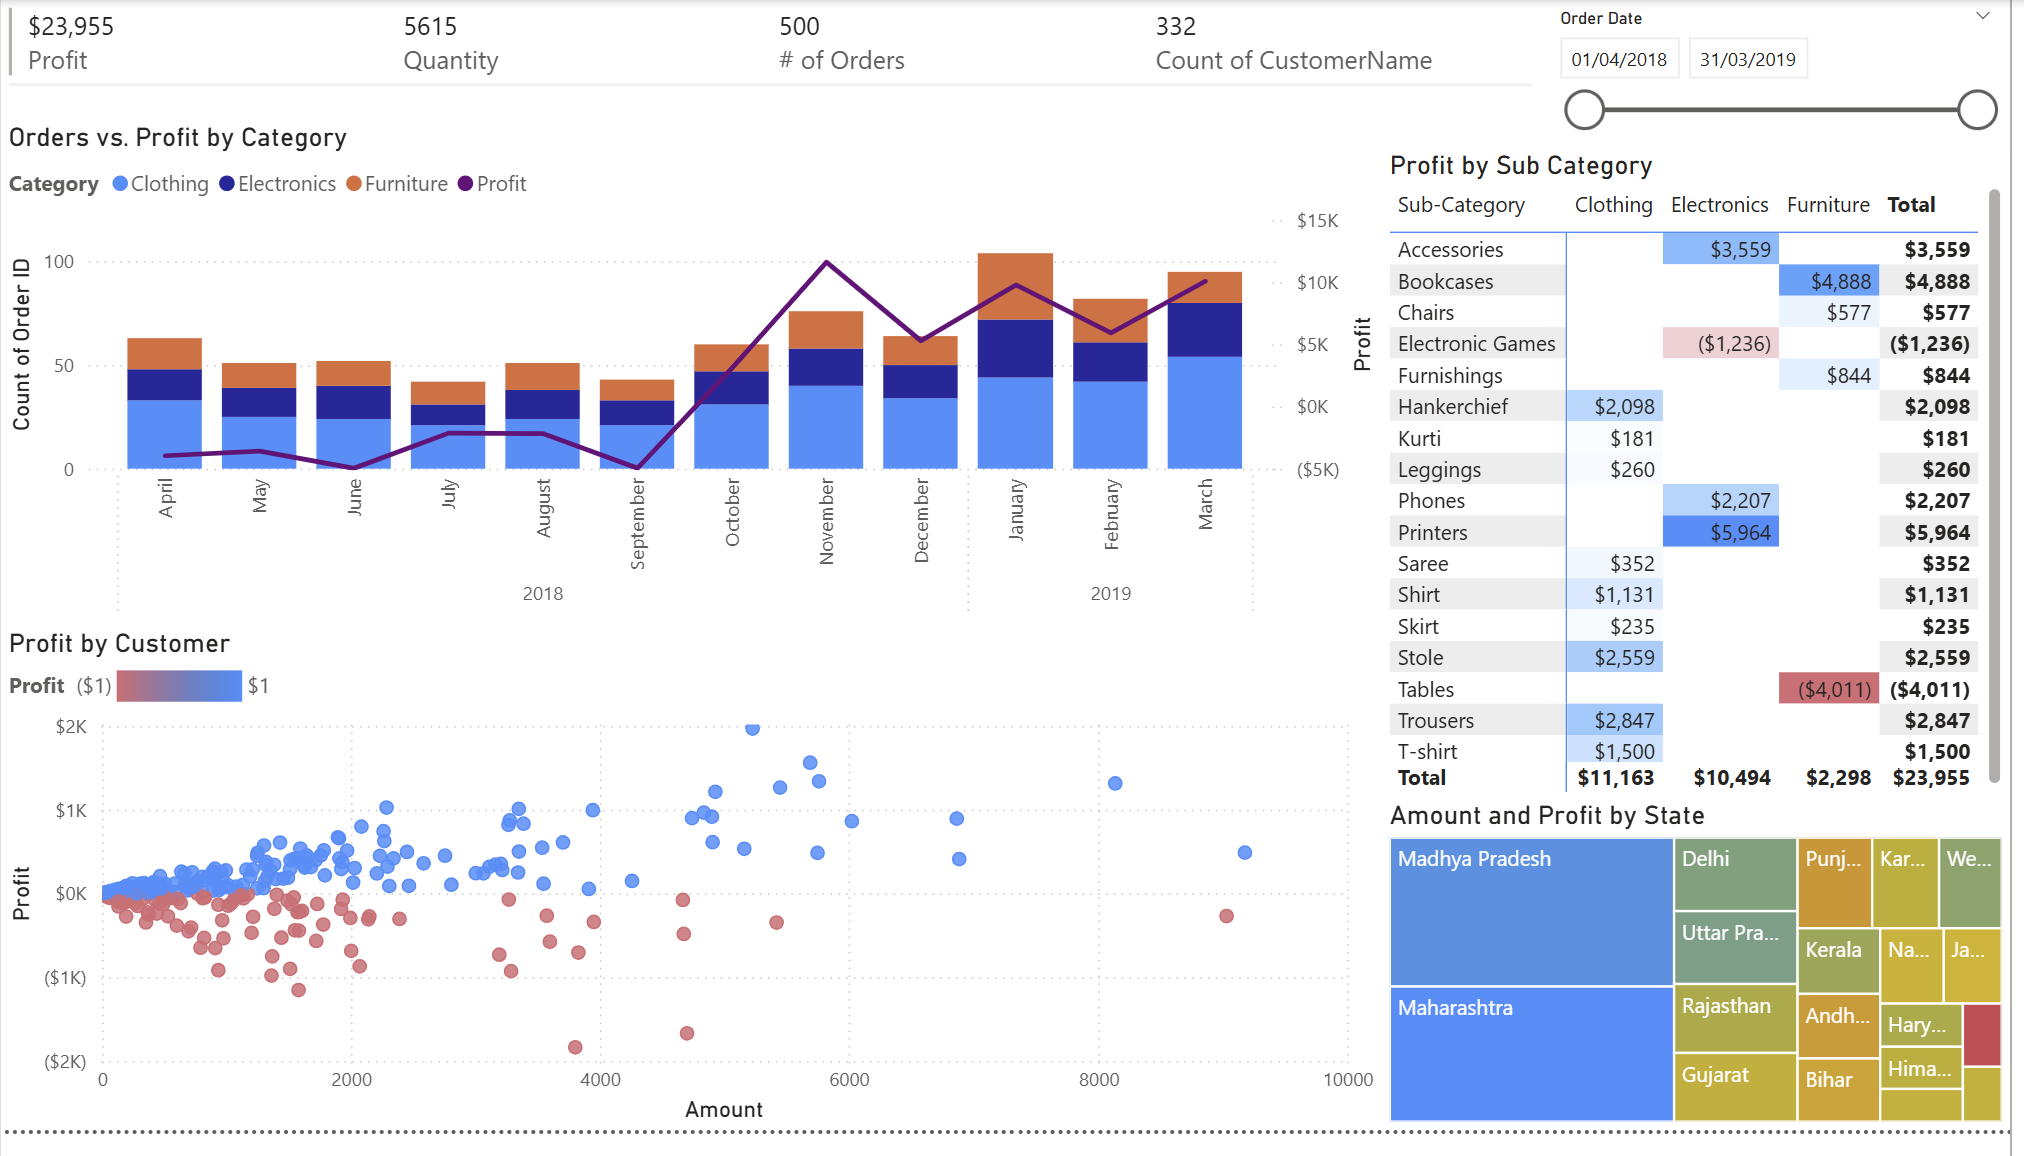

The page's visual inventory and layout, read from the dashboard file:
{"tool":"powerbi","page":{"name":"Profit Analysis","canvas":[1280,720],"ordinal":0},"visuals":[{"type":"multiRowCard","fields":{"Values":["Sum(Order Details.Profit)","Sum(Order Details.Quantity)","List of Orders.Order ID","List of Orders.CustomerName"]},"box":[0,0,980,77.1],"z":0},{"type":"lineStackedColumnComboChart","title":"Orders vs. Profit by Category","fields":{"Category":["List of Orders.Order Date.Variation.Date Hierarchy.Year","List of Orders.Order Date.Variation.Date Hierarchy.Month"],"Series":["Order Details.Category"],"Y2":["Sum(Order Details.Profit)"],"Y":["CountNonNull(List of Orders.Order ID)"]},"box":[0,77.3,879.9,322.8],"z":1000},{"type":"pivotTable","title":"Profit by Sub Category","fields":{"Values":["Sum(Order Details.Profit)"],"Rows":["Order Details.Sub-Category"],"Columns":["Order Details.Category"]},"box":[880,95.7,400,414.3],"z":2000},{"type":"scatterChart","title":"Profit by Customer","fields":{"Category":["List of Orders.CustomerName"],"X":["Sum(Order Details.Amount)"],"Y":["Sum(Order Details.Profit)"]},"box":[0,400.1,879.9,319.4],"z":3000},{"type":"treemap","fields":{"Values":["Sum(Order Details.Amount)"],"Group":["List of Orders.State"]},"box":[880,510,400,210],"z":4000},{"type":"slicer","fields":{"Values":["List of Orders.Order Date"]},"box":[980,0,300,95.7],"z":5000}]}

Visuals, with their boxes in screenshot pixels (x1, y1, x2, y2), scaled from the page's 1280x720 canvas onto the 2024x1156 screenshot:
multiRowCard - Sum(Order Details.Profit) x Sum(Order Details.Quantity): [0,0,1550,124]
"Orders vs. Profit by Category" lineStackedColumnComboChart: [0,124,1391,642]
"Profit by Sub Category" pivotTable: [1392,154,2023,819]
"Profit by Customer" scatterChart: [0,642,1391,1155]
treemap - Sum(Order Details.Amount) x List of Orders.State: [1392,819,2023,1155]
slicer - List of Orders.Order Date: [1550,0,2023,154]
